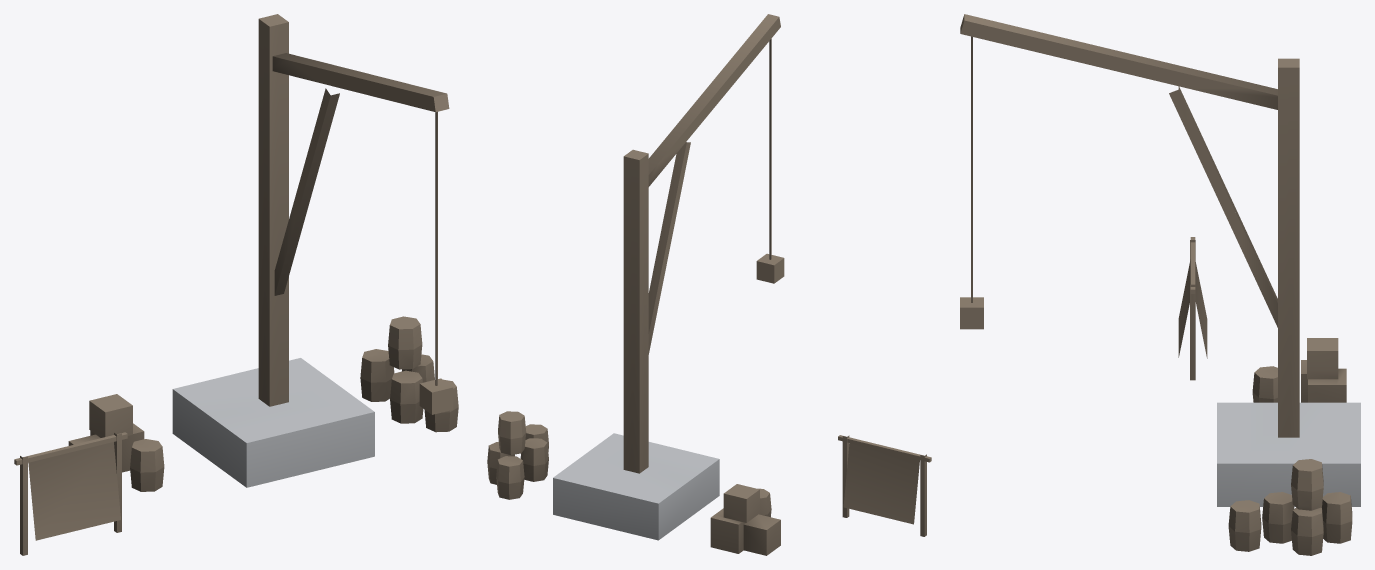
File: sg_quay_dress.glb
3 views of the same model, side by side, from view 1: azimuth 30°, elevation 25°; view 2: azimuth 150°, elevation 25°; view 3: azimuth 270°, elevation 25° (orthographic). The views are drawn at different scales.
Visible parts, largest first — view 1: sg_quay_dress_SG_Joinery, sg_quay_dress_SG_Stone; view 2: sg_quay_dress_SG_Joinery, sg_quay_dress_SG_Stone; view 3: sg_quay_dress_SG_Joinery, sg_quay_dress_SG_Stone.
Boxes of the visible parts, box(x1,y1,x2,y2) form: sg_quay_dress_SG_Joinery: box(14, 14, 458, 555); sg_quay_dress_SG_Stone: box(172, 358, 374, 487); sg_quay_dress_SG_Joinery: box(487, 14, 931, 555); sg_quay_dress_SG_Stone: box(553, 433, 719, 540); sg_quay_dress_SG_Joinery: box(960, 14, 1352, 555); sg_quay_dress_SG_Stone: box(1217, 402, 1360, 506).
Bounding box in the file's own units: 11.15 × 10.55 × 8.35.
